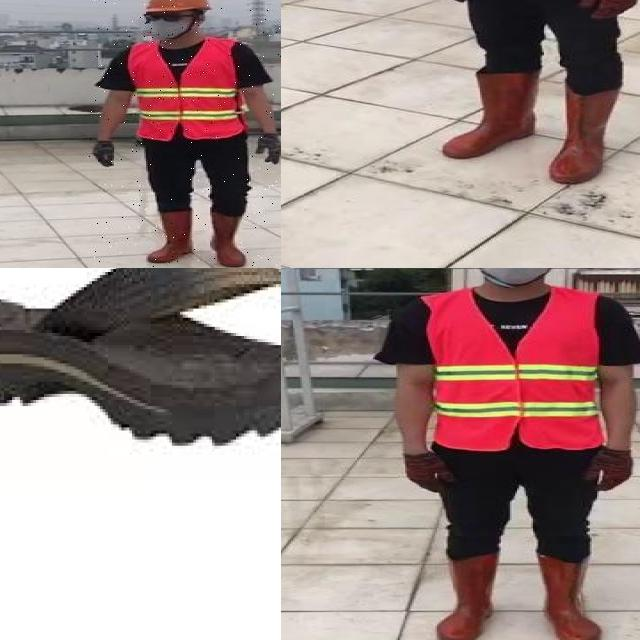Sandals: (0, 268, 281, 535)
boots: (444, 71, 538, 160), (550, 86, 622, 185), (535, 554, 606, 640), (431, 552, 495, 640), (148, 210, 194, 264), (206, 211, 250, 266)
face_mask: (476, 268, 553, 282)
hand_glove: (406, 451, 456, 494), (584, 450, 634, 491), (576, 0, 640, 19)
head_helmet: (142, 0, 216, 15)
person: (382, 268, 640, 640), (89, 0, 281, 268), (410, 0, 640, 187)
vest: (423, 283, 604, 450), (130, 40, 246, 139)
